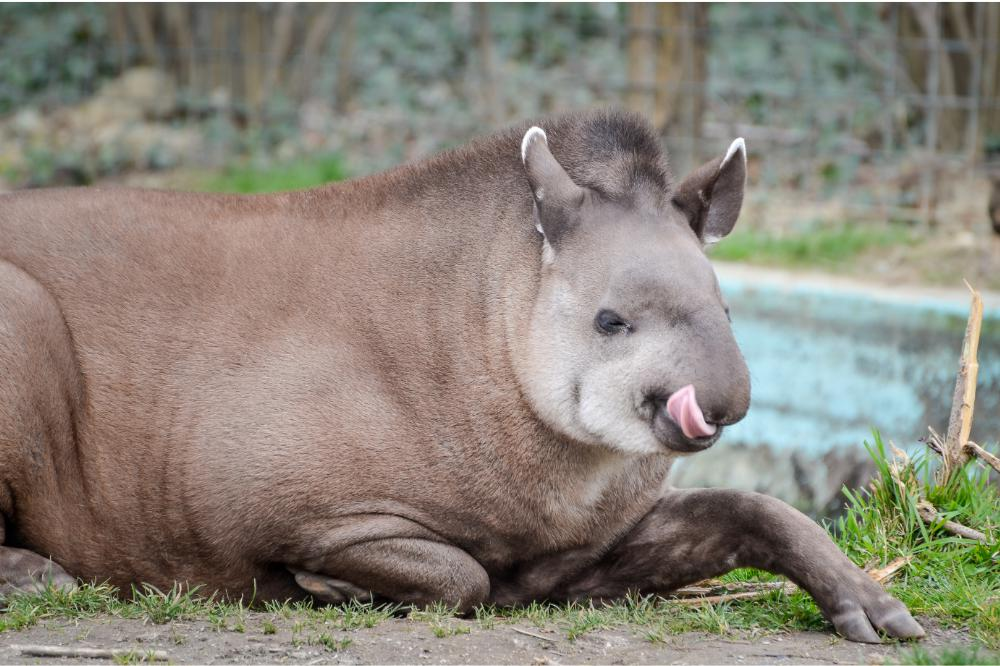Anta: (9, 95, 943, 653)
